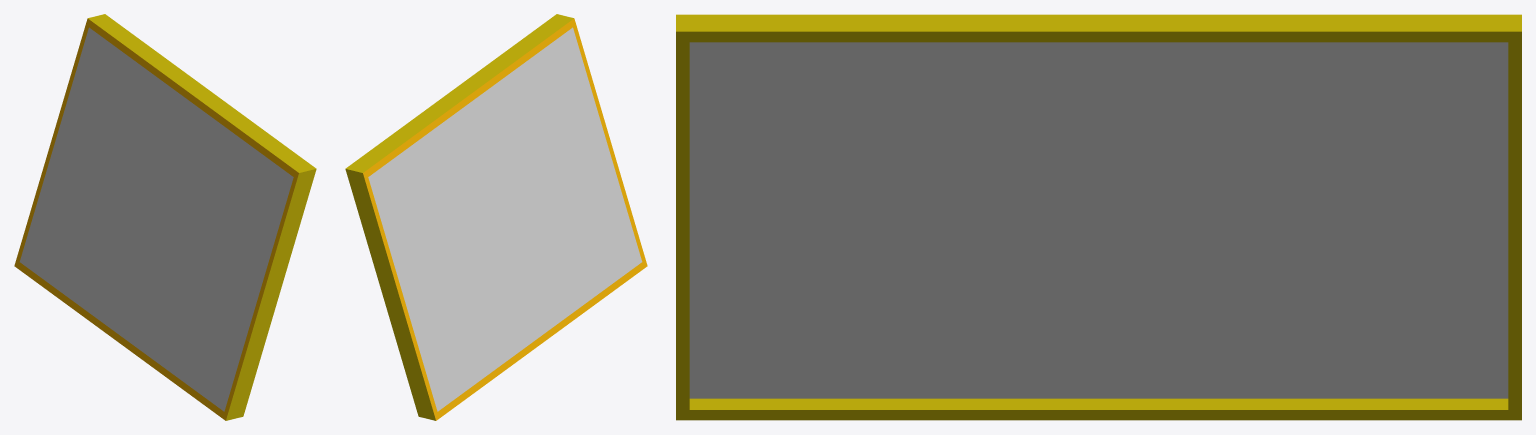
Rendered from window_slanted_5x1x3.dae.
The picture shows the model from 3 angles, left to right: view 1: azimuth 30°, elevation 25°; view 2: azimuth 150°, elevation 25°; view 3: azimuth 270°, elevation 25°; orthographic projection. The views are drawn at different scales.
Parts seen in each view (by area): view 1: Cube; view 2: Cube; view 3: Cube.
Boxes of the visible parts, x1,y1,x2,y2 form: Cube: (14,14,316,420); Cube: (345,14,647,420); Cube: (676,14,1521,420).
Bounding box in the file's own units: 0.31 × 1.25 × 0.75.
